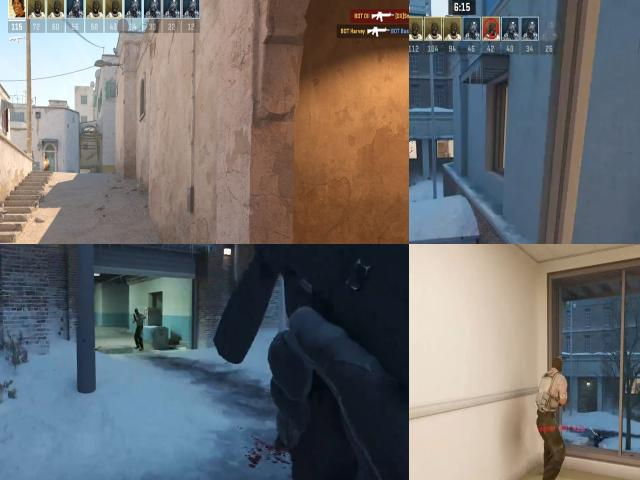T: (535, 360, 567, 425), (133, 306, 144, 334), (44, 156, 49, 171)
T-Head: (551, 354, 565, 379), (134, 306, 141, 314), (45, 156, 47, 161)
